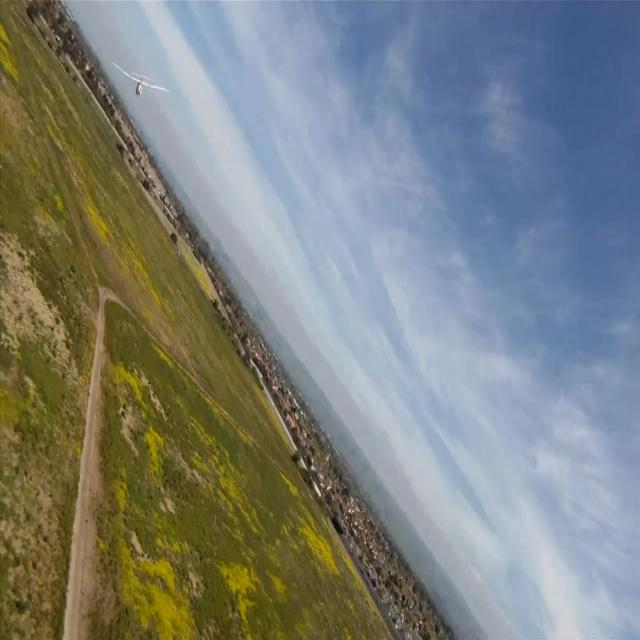iha: (112, 0, 170, 35)
